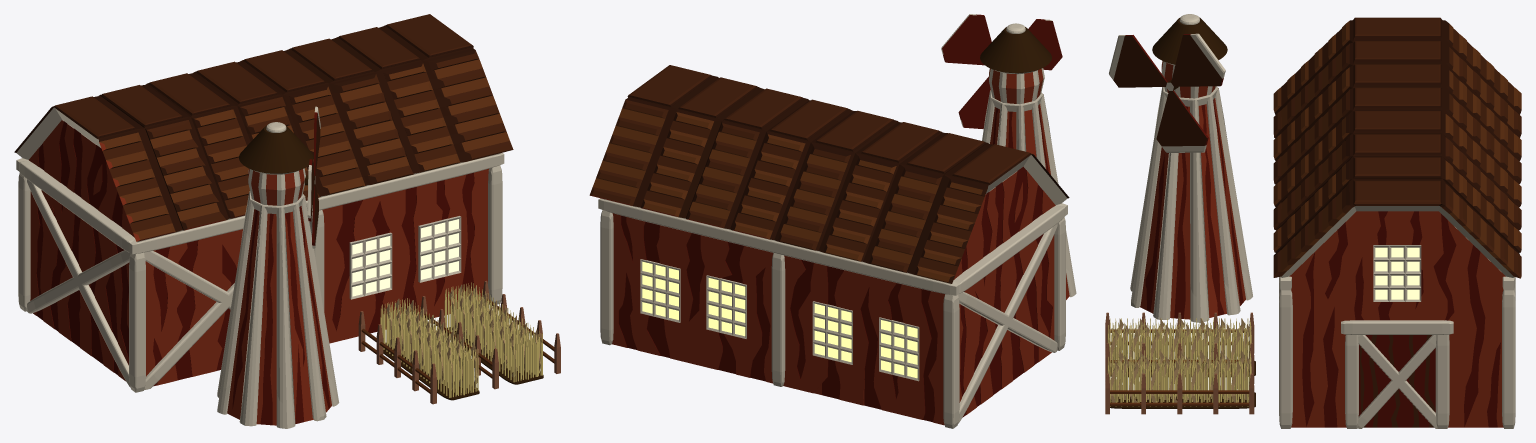
Rendered from FarmFixed.glb.
3 renders of one model, left to right at view 1: azimuth 30°, elevation 25°; view 2: azimuth 150°, elevation 25°; view 3: azimuth 270°, elevation 25°, orthographic. The views are drawn at different scales.
Parts seen in each view (by area): view 1: Cube, Cylinder, Cube.020, Cube.007, Cone, Cube.016, Cube.017, Cube.002, Cube.004, Cylinder.003, Cylinder.009, Cube.024 (+22 smaller); view 2: Cube, Cube.020, Cylinder, Cube.007, Cylinder.016, Cone, Cube.013, Cube.012, Cube.014, Cube.015, Cube.002, Cube.019 (+1 smaller); view 3: Cube, Cylinder, Cube.020, Cylinder.016, Cube.008, Cylinder.001, Cone, Cube.022, Cylinder.004, Cylinder.006, Cube.001, Cube.003 (+19 smaller).
Boxes of the visible parts, x1,y1,x2,y2 form: Cube: [14, 14, 513, 386]; Cylinder: [217, 168, 339, 428]; Cube.020: [18, 165, 502, 392]; Cube.007: [16, 153, 504, 254]; Cone: [239, 122, 313, 174]; Cube.016: [349, 232, 392, 299]; Cube.017: [418, 216, 461, 282]; Cube.002: [19, 161, 134, 252]; Cube.004: [27, 179, 130, 387]; Cylinder.003: [358, 311, 436, 404]; Cylinder.009: [444, 290, 514, 382]; Cube.024: [144, 212, 312, 389]; Cube: [589, 65, 1069, 425]; Cube.020: [600, 210, 1065, 428]; Cylinder: [982, 68, 1076, 299]; Cube.007: [598, 198, 1067, 295]; Cylinder.016: [941, 14, 1062, 129]; Cone: [980, 23, 1051, 74]; Cube.013: [706, 275, 746, 338]; Cube.012: [640, 259, 680, 322]; Cube.014: [879, 317, 919, 381]; Cube.015: [812, 301, 852, 364]; Cube.002: [953, 205, 1065, 293]; Cube.019: [958, 223, 1057, 423]; Cube: [1273, 17, 1521, 427]; Cylinder: [1130, 61, 1252, 322]; Cube.020: [1279, 278, 1515, 428]; Cylinder.016: [1109, 33, 1225, 152]; Cube.008: [1373, 245, 1421, 301]; Cylinder.001: [1105, 373, 1254, 414]; Cone: [1152, 14, 1227, 65]; Cube.022: [1341, 320, 1453, 334]; Cylinder.004: [1109, 364, 1248, 406]; Cylinder.006: [1111, 359, 1249, 402]; Cube.001: [1357, 335, 1436, 428]; Cube.003: [1358, 335, 1437, 428].
Bounding box in the file's own units: 9.28 × 6.6 × 8.76.
